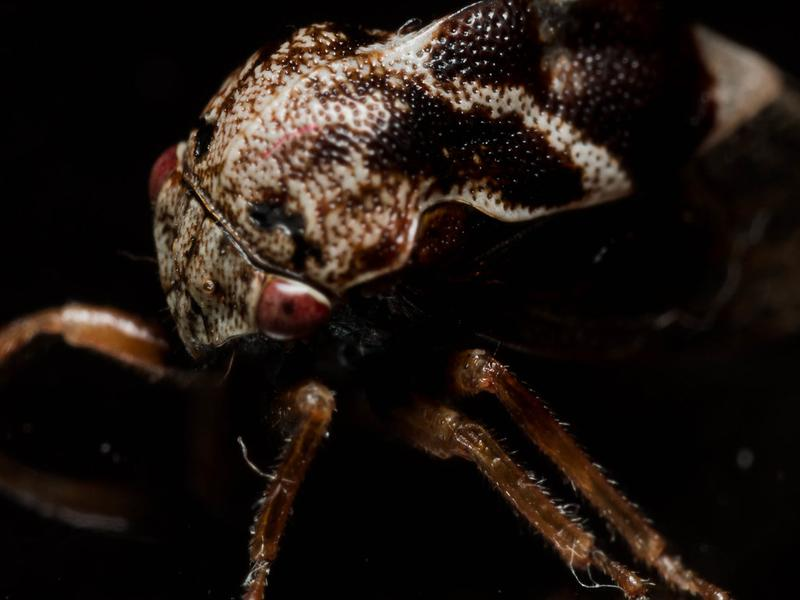Brown_plant_leafhopper: (104, 18, 771, 546)
